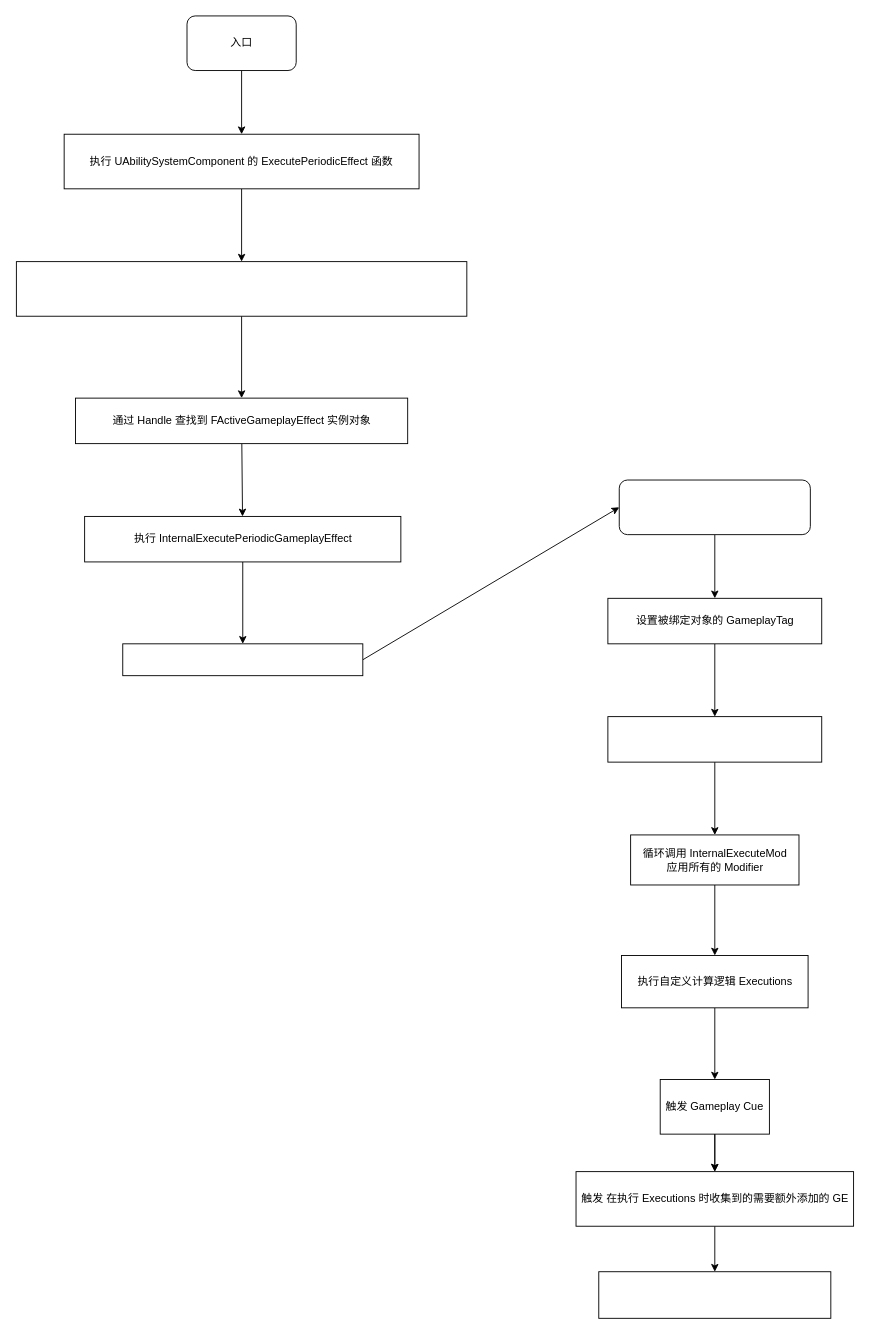
Some shapes in this 869 by 1335 pixel diagram are drawn without their labels. The shapes that lost their labels are listed below. From the top down, each one's box as (x1, y1, x2, y2) in pixels, then its label:
(15, 261, 467, 316): 执行 FActiveGameplayEffectContainer::ExecutePeriodicGameplayEffect
(618, 479, 810, 535): ExecuteActiveEffectsFrom 入口
(122, 643, 363, 676): 执行 ExecuteActiveEffectsFrom
(607, 716, 822, 762): 计算所有 Modifier 的数值 SpecToUse.CalculateModifierMagnitudes()
(598, 1271, 831, 1318): 触发事件 OnGameplayEffectExecuted
